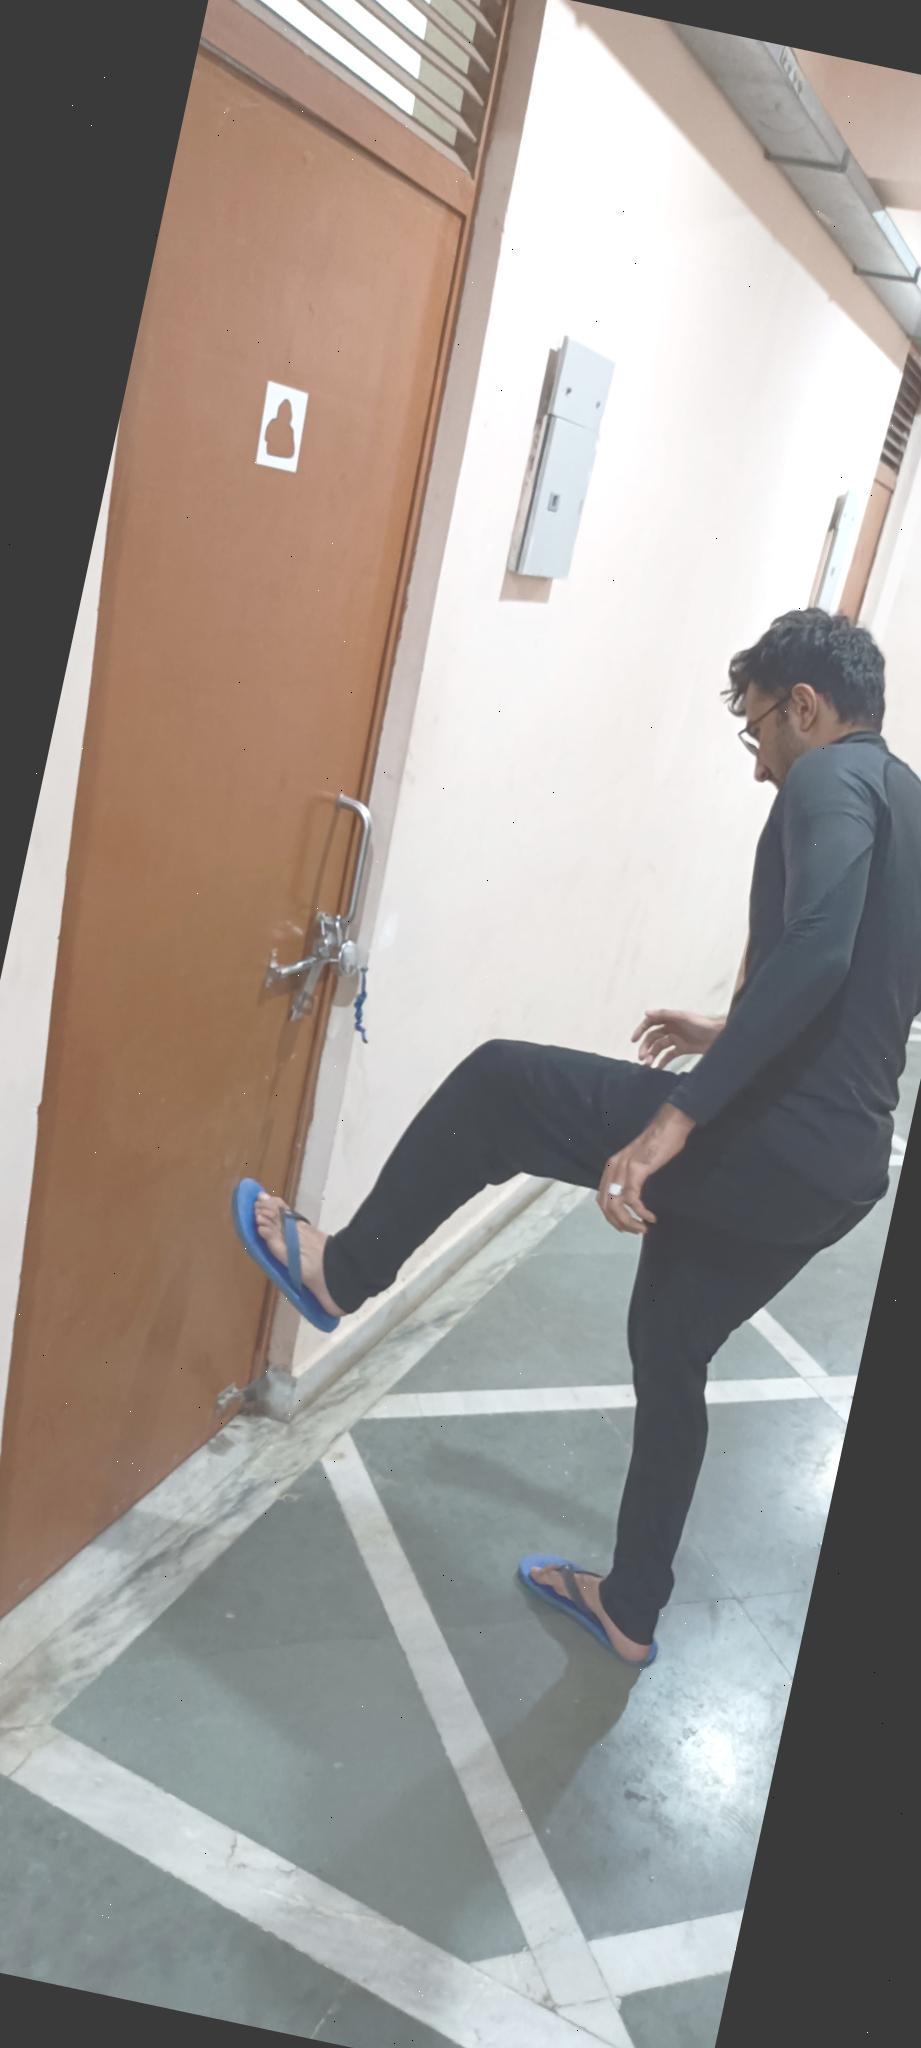suspicion: (63, 439, 921, 1754)
